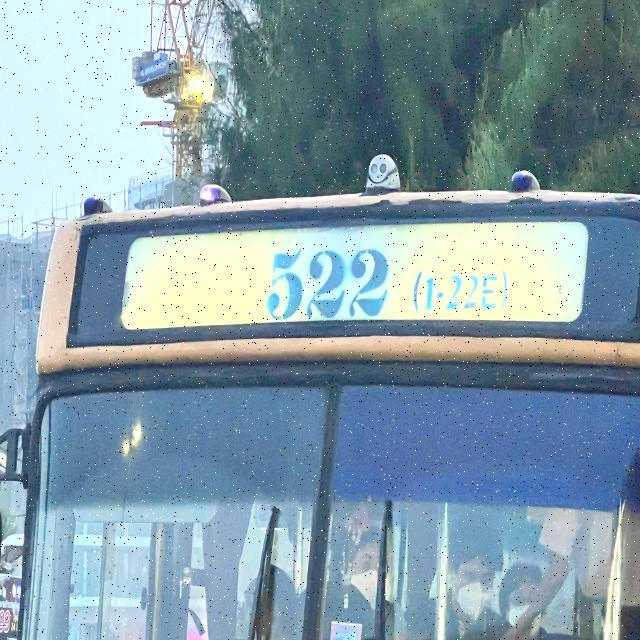BMTA-bus: (7, 138, 640, 640)
Bus-Line-Number: (254, 234, 522, 322)
